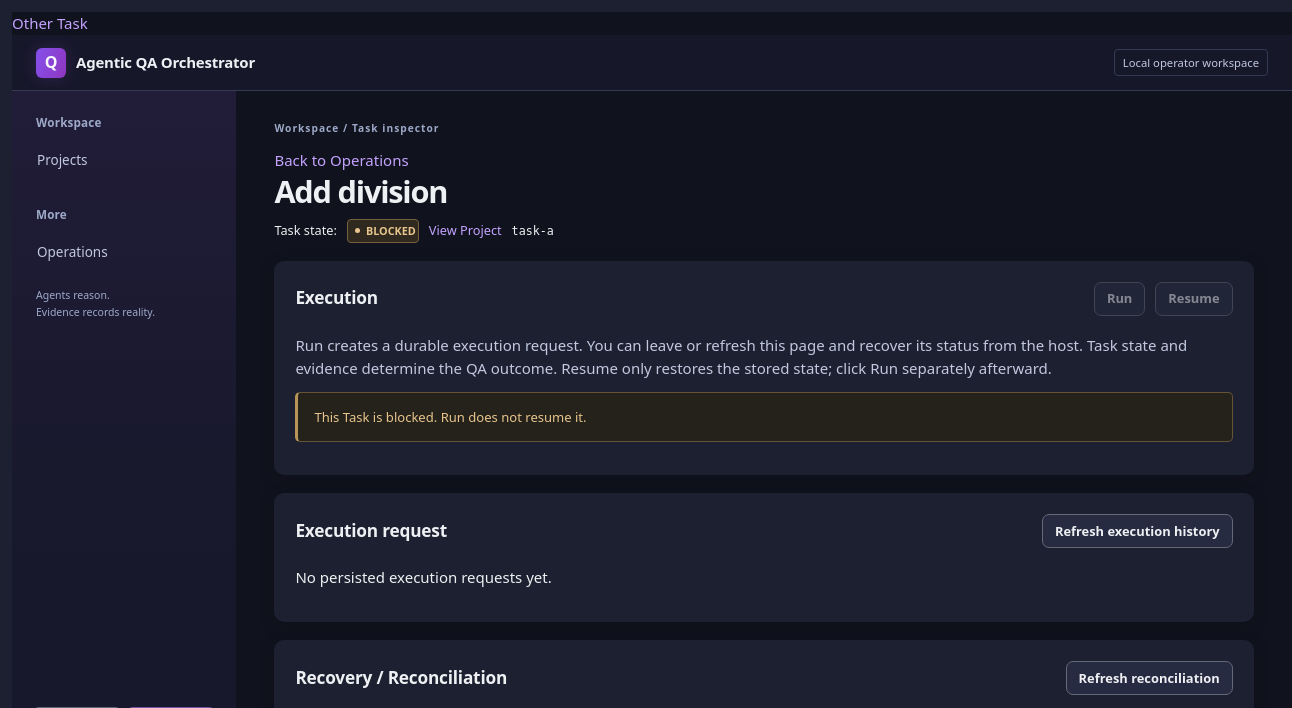
Scenario: derived recovery guidance › explicit refresh rereads assessment only, without POST or lazy evidence requests
Click the button "Refresh reconciliation".
click(1149, 678)  # box [1066, 662, 1233, 696]
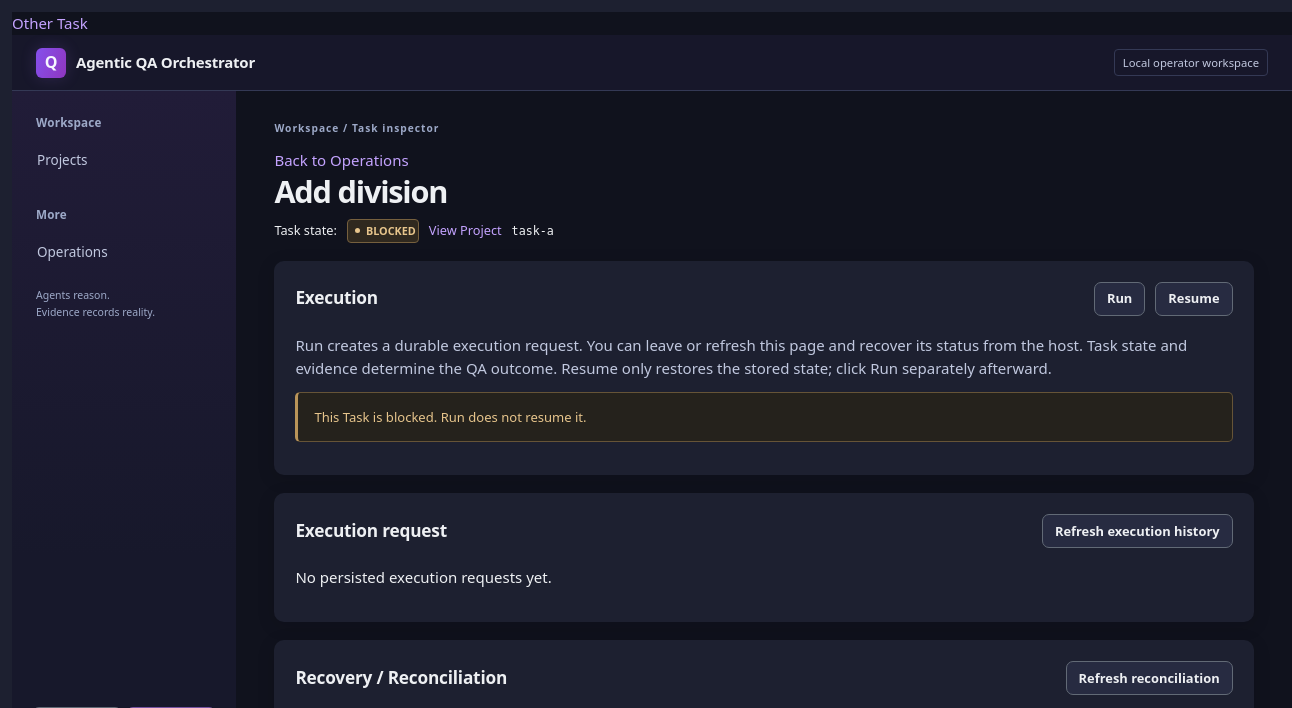
Now the button "Run" is enabled, box [1094, 282, 1145, 316]
